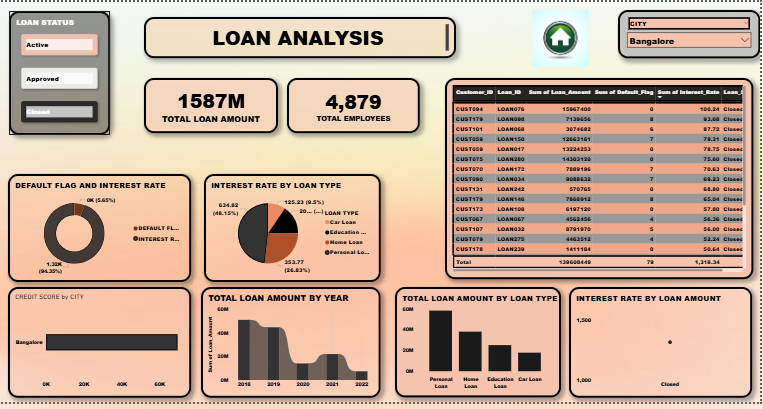

The dashboard page shown, as its layout file describes it:
{"tool":"powerbi","page":{"name":"LOAN","canvas":[1900,1000],"ordinal":2},"visuals":[{"type":"card","fields":{"Values":["Sum(DATA.TOTAL LOAN AMOUNT)"]},"box":[358.8,191.2,335.3,138.2],"z":0},{"type":"card","fields":{"Values":["Sum(Loans.Branches.Total_Employees)"]},"box":[717.6,191.2,332.4,138.2],"z":1000},{"type":"clusteredBarChart","fields":{"Category":["Loans.Branches.City"],"Y":["Sum(Loans.Customers.Credit_Score)"]},"box":[20.9,711.6,458.1,276.7],"z":2000},{"type":"columnChart","title":"TOTAL LOAN AMOUNT BY LOAN TYPE","fields":{"Category":["Loans.Loan_Type"],"Y":["Sum(Loans.Loan_Amount)"]},"box":[988.2,711.8,414.7,276.5],"z":3000},{"type":"areaChart","title":"INTEREST RATE BY LOAN AMOUNT","fields":{"Category":["Loans.Loan_Status"],"Y":["Sum(Loans.Interest_Rate)"]},"box":[1423.3,711.6,458.1,276.7],"z":4000},{"type":"pieChart","title":"INTEREST RATE BY LOAN TYPE","fields":{"Series":["Loans.Loan_Type"],"Y":["Sum(Loans.Interest_Rate)"]},"box":[509.3,430.2,441.9,269.8],"z":5000},{"type":"tableEx","fields":{"Values":["Loans.Customer_ID","Loans.Loan_ID","Sum(Loans.Loan_Amount)","Sum(Loans.Default_Flag)","Sum(Loans.Interest_Rate)","Loans.Loan_Status"]},"box":[1111.8,191.2,770.6,502.9],"z":6000},{"type":"donutChart","title":"DEFAULT FLAG AND INTEREST RATE","fields":{"Y":["Sum(Loans.Default_Flag)","Sum(Loans.Interest_Rate)"]},"box":[20.9,430.2,458.1,269.8],"z":7000},{"type":"ribbonChart","title":"TOTAL LOAN AMOUNT BY YEAR","fields":{"Category":["Loans.Loan_Start_Date.Variation.Date Hierarchy.Year","Loans.Loan_Start_Date.Variation.Date Hierarchy.Quarter","Loans.Loan_Start_Date.Variation.Date Hierarchy.Month","Loans.Loan_Start_Date.Variation.Date Hierarchy.Day"],"Y":["Sum(Loans.Loan_Amount)"]},"box":[502.3,711.6,448.8,276.7],"z":8000},{"type":"slicer","fields":{"Values":["Loans.Branches.City"]},"box":[1544.1,20.6,355.9,120.6],"z":9000},{"type":"advancedSlicerVisual","fields":{"Values":["Loans.Loan_Status"]},"box":[21.6,21.6,252.9,309.8],"z":10000},{"type":"textbox","box":[360,37.5,780,102.5],"z":11000},{"type":"image","box":[1270,15,262.5,150],"z":11001}]}

Visuals, with their boxes in screenshot pixels (x1, y1, x2, y2), scaled from the page's 1900x1000 canvas onto the 763x409 screenshot:
card - Sum(DATA.TOTAL LOAN AMOUNT): [left=144, top=78, right=279, bottom=135]
card - Sum(Loans.Branches.Total_Employees): [left=288, top=78, right=422, bottom=135]
clusteredBarChart - Loans.Branches.City x Sum(Loans.Customers.Credit_Score): [left=8, top=291, right=192, bottom=404]
"TOTAL LOAN AMOUNT BY LOAN TYPE" columnChart: [left=397, top=291, right=563, bottom=404]
"INTEREST RATE BY LOAN AMOUNT" areaChart: [left=572, top=291, right=756, bottom=404]
"INTEREST RATE BY LOAN TYPE" pieChart: [left=205, top=176, right=382, bottom=286]
tableEx - Loans.Customer_ID x Loans.Loan_ID: [left=446, top=78, right=756, bottom=284]
"DEFAULT FLAG AND INTEREST RATE" donutChart: [left=8, top=176, right=192, bottom=286]
"TOTAL LOAN AMOUNT BY YEAR" ribbonChart: [left=202, top=291, right=382, bottom=404]
slicer - Loans.Branches.City: [left=620, top=8, right=762, bottom=58]
advancedSlicerVisual - Loans.Loan_Status: [left=9, top=9, right=110, bottom=136]
textbox: [left=145, top=15, right=458, bottom=57]
image: [left=510, top=6, right=615, bottom=67]
